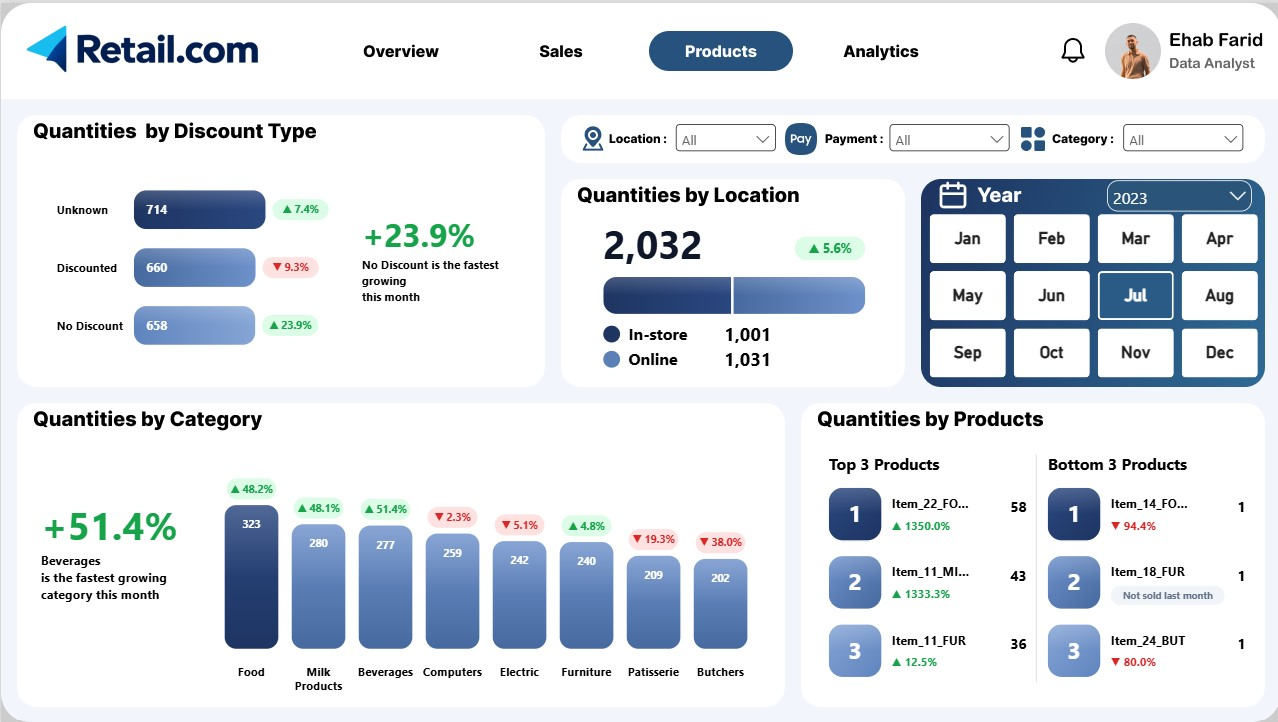

The page's visual inventory and layout, read from the dashboard file:
{"tool":"powerbi","page":{"name":"Products","canvas":[1280,720],"ordinal":2},"visuals":[{"type":"advancedSlicerVisual","fields":{"Values":["Dim Date.Short Month"]},"box":[928.5,211.5,328.5,164.6],"z":0},{"type":"htmlContent443BE3AD55E043BF878BED274D3A6855","fields":{"content":["Measures Table.Quantity by Location"]},"box":[561.2,202.5,344,182.5],"z":1000},{"type":"htmlContent443BE3AD55E043BF878BED274D3A6855","fields":{"content":["Measures Table.Top & Bottom by Quantity"]},"box":[801.2,423.8,466.2,284],"z":2000},{"type":"slicer","fields":{"Values":["Fact Transaction.Location"]},"box":[670,116.3,109.5,40],"z":3000},{"type":"slicer","fields":{"Values":["Fact Transaction.Payment Method"]},"box":[883.7,116.3,130,40],"z":4000},{"type":"slicer","fields":{"Values":["Dim Items.Category"]},"box":[1117.1,115.7,130,40],"z":5000},{"type":"htmlContent443BE3AD55E043BF878BED274D3A6855","fields":{"content":["Measures Table.Quantity by Category Visual"]},"box":[15.7,415.2,767.5,305],"z":6000},{"type":"htmlContent443BE3AD55E043BF878BED274D3A6855","fields":{"content":["Measures Table.Product by Discount Visual"]},"box":[16.4,145,528,240],"z":7000},{"type":"actionButton","box":[807,27,145.2,41.7],"z":8000},{"type":"actionButton","box":[488.7,27,145.2,41.7],"z":9000},{"type":"actionButton","box":[327.4,27,145.2,41.7],"z":10000},{"type":"slicer","fields":{"Values":["Dim Date.Year"]},"box":[1101.6,172.6,154.3,38.6],"z":11000}]}

Visuals, with their boxes in screenshot pixels (x1, y1, x2, y2), scaled from the page's 1280x720 canvas onto the 1278x722 screenshot:
advancedSlicerVisual - Dim Date.Short Month: BBox(927, 212, 1255, 377)
htmlContent443BE3AD55E043BF878BED274D3A6855 - Measures Table.Quantity by Location: BBox(560, 203, 904, 386)
htmlContent443BE3AD55E043BF878BED274D3A6855 - Measures Table.Top & Bottom by Quantity: BBox(800, 425, 1265, 710)
slicer - Fact Transaction.Location: BBox(669, 117, 778, 157)
slicer - Fact Transaction.Payment Method: BBox(882, 117, 1012, 157)
slicer - Dim Items.Category: BBox(1115, 116, 1245, 156)
htmlContent443BE3AD55E043BF878BED274D3A6855 - Measures Table.Quantity by Category Visual: BBox(16, 416, 782, 721)
htmlContent443BE3AD55E043BF878BED274D3A6855 - Measures Table.Product by Discount Visual: BBox(16, 145, 544, 386)
actionButton: BBox(806, 27, 951, 69)
actionButton: BBox(488, 27, 633, 69)
actionButton: BBox(327, 27, 472, 69)
slicer - Dim Date.Year: BBox(1100, 173, 1254, 212)
